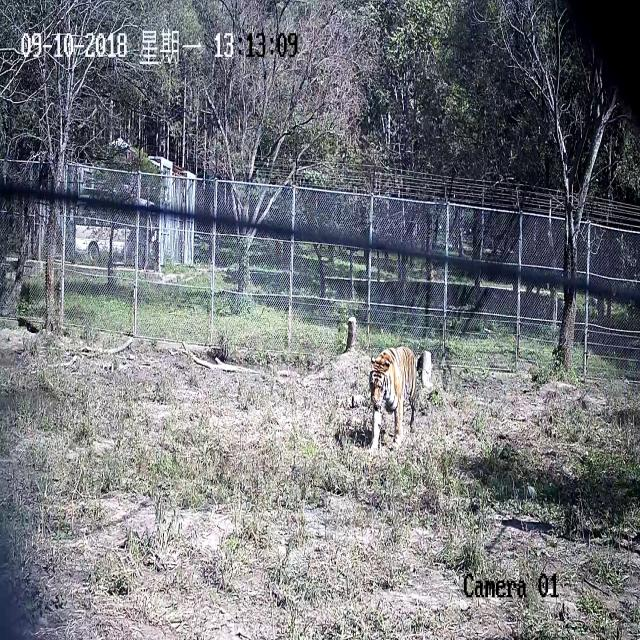Tiger: (344, 327, 444, 491)
